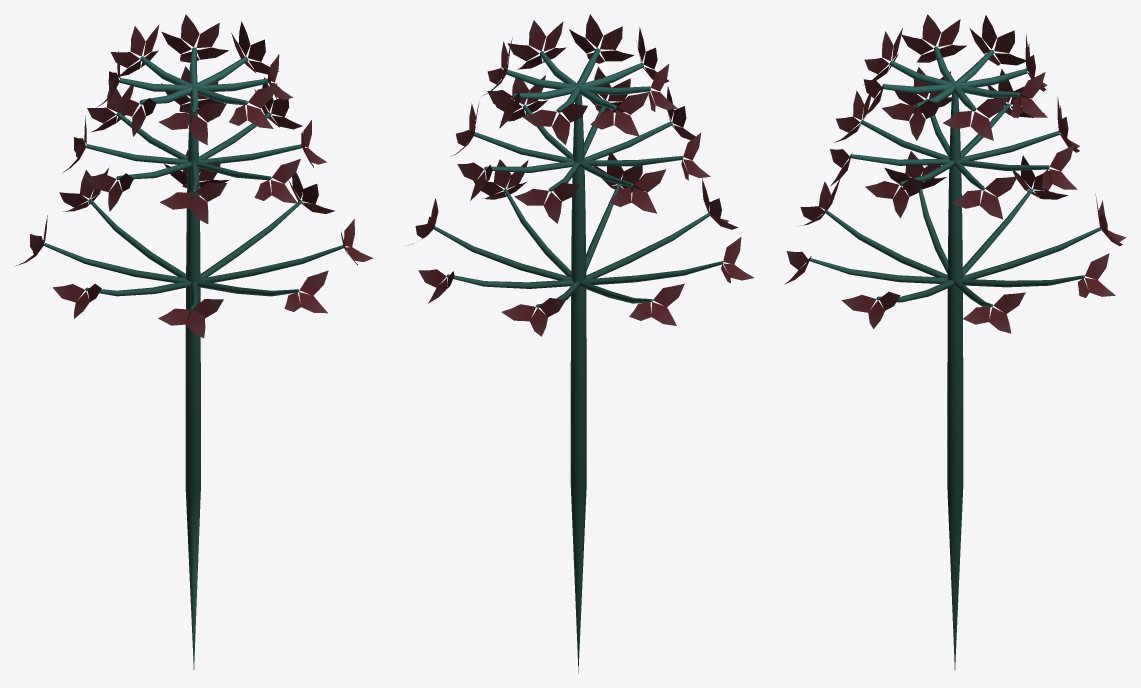
File: plants-flowers-red-star-flower_v2.fbx
3 views of the same model, side by side, from view 1: azimuth 30°, elevation 25°; view 2: azimuth 150°, elevation 25°; view 3: azimuth 270°, elevation 25° (orthographic).
Visible parts, largest first — view 1: Red Star Flower_v2; view 2: Red Star Flower_v2; view 3: Red Star Flower_v2.
Part boxes in pixels (x1,y1,x2,y2): Red Star Flower_v2: (15, 14, 373, 669); Red Star Flower_v2: (408, 14, 754, 673); Red Star Flower_v2: (784, 14, 1126, 669).
Size of the model in its own units: 0.2962 by 0.6 by 0.2962.
